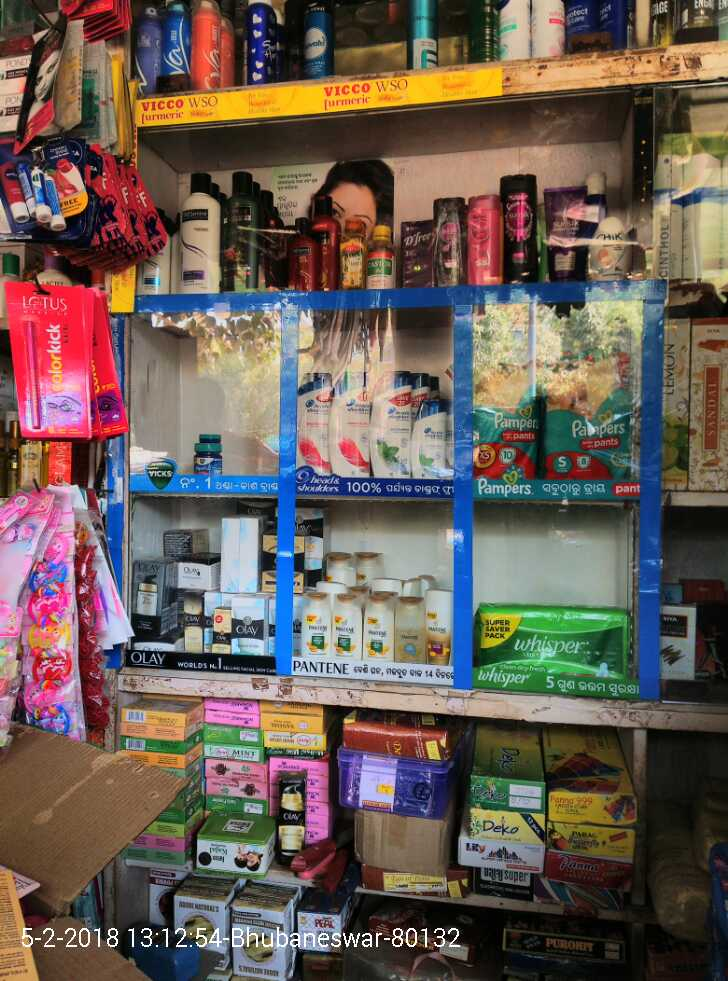beauty: (134, 531, 282, 659), (296, 555, 453, 664), (331, 373, 374, 493), (296, 366, 333, 481), (375, 373, 410, 483), (412, 395, 448, 493)
pharmacy: (536, 314, 631, 479), (475, 599, 636, 682), (471, 311, 537, 478), (181, 433, 224, 485)
